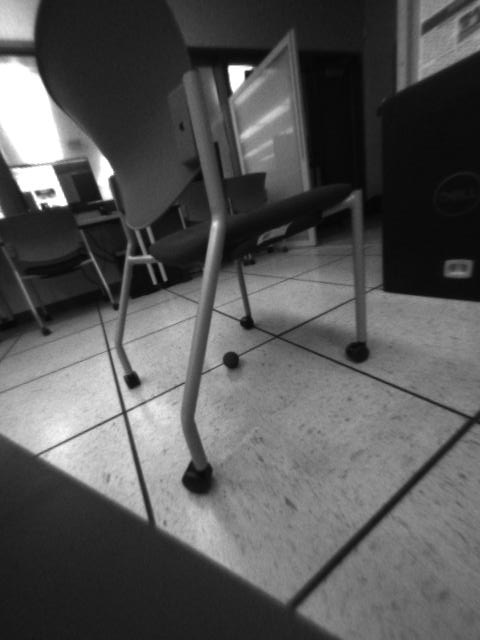dogtoy: (216, 345, 245, 374)
